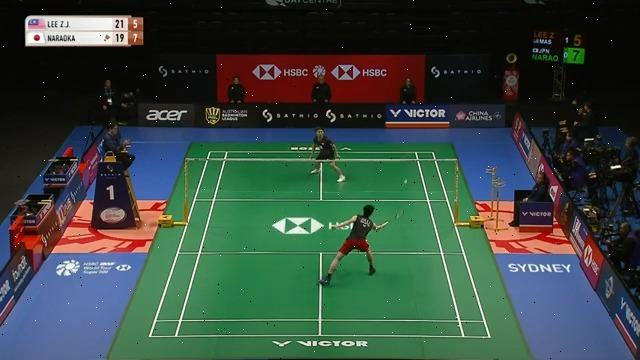Shuttlecock: (400, 176, 412, 188)
